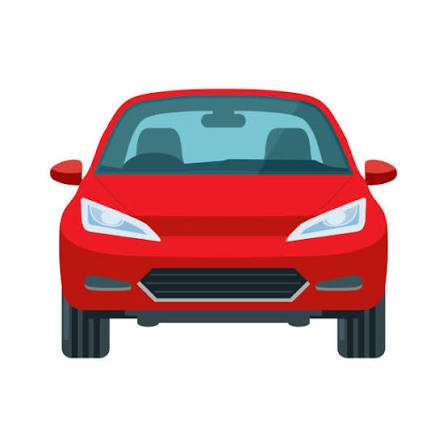car: (56, 88, 399, 356)
